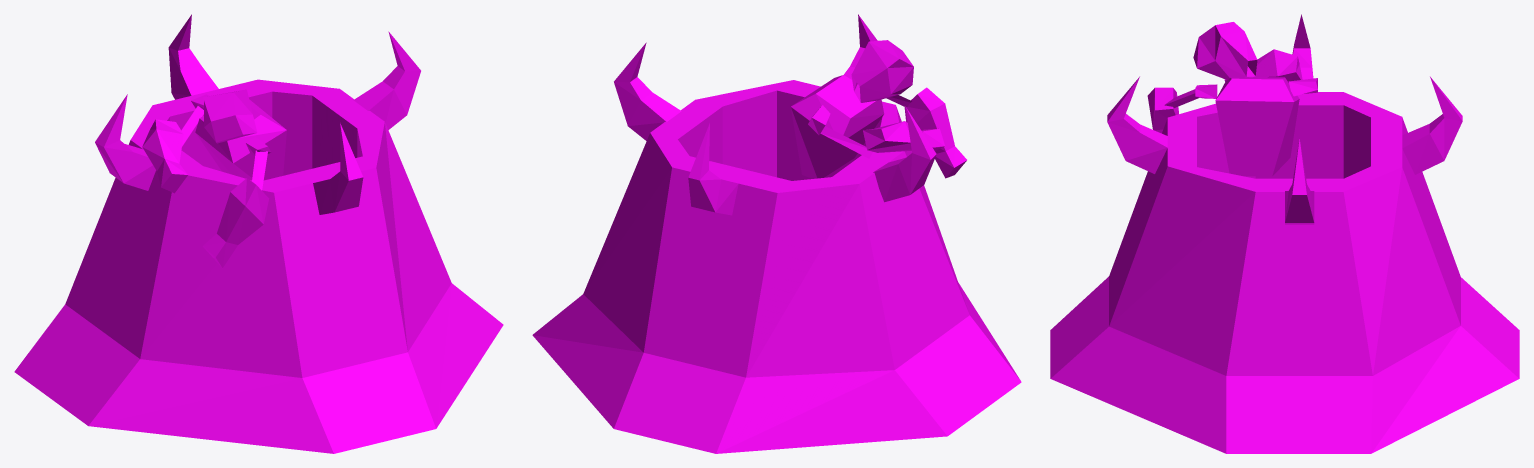
File: cave well.obj
3 views of the same model, side by side, from view 1: azimuth 30°, elevation 25°; view 2: azimuth 150°, elevation 25°; view 3: azimuth 270°, elevation 25° (orthographic). The views are drawn at different scales.
Visible parts, largest first — view 1: cave well_back; view 2: cave well_back; view 3: cave well_back.
Boxes of the visible parts, x1,y1,x2,y2 form: cave well_back: [14, 14, 503, 453]; cave well_back: [532, 14, 1021, 453]; cave well_back: [1050, 14, 1519, 453].
Size of the model in its own units: 2.56 by 1.79 by 2.56.
